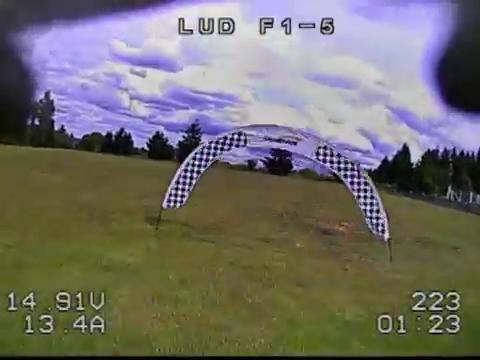gate: (162, 124, 391, 243)
